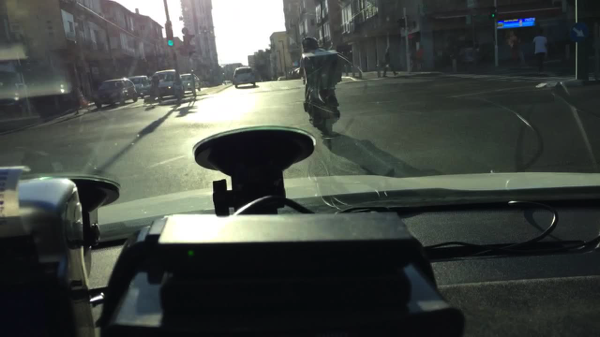car: (94, 78, 138, 109), (152, 69, 184, 95), (233, 65, 256, 88), (129, 74, 153, 96), (179, 72, 203, 91), (292, 66, 301, 79), (277, 76, 285, 81), (286, 69, 290, 79)
motor: (298, 49, 343, 152)
person: (533, 28, 548, 76), (381, 44, 400, 77), (462, 40, 477, 69), (512, 36, 523, 68), (149, 76, 161, 102), (416, 45, 424, 69), (409, 45, 416, 71)
rider: (301, 34, 338, 110)
traffic light: (165, 22, 173, 47), (188, 34, 197, 55), (491, 6, 498, 19), (180, 40, 185, 55)
traffic sign: (569, 22, 589, 43), (180, 27, 188, 35)
